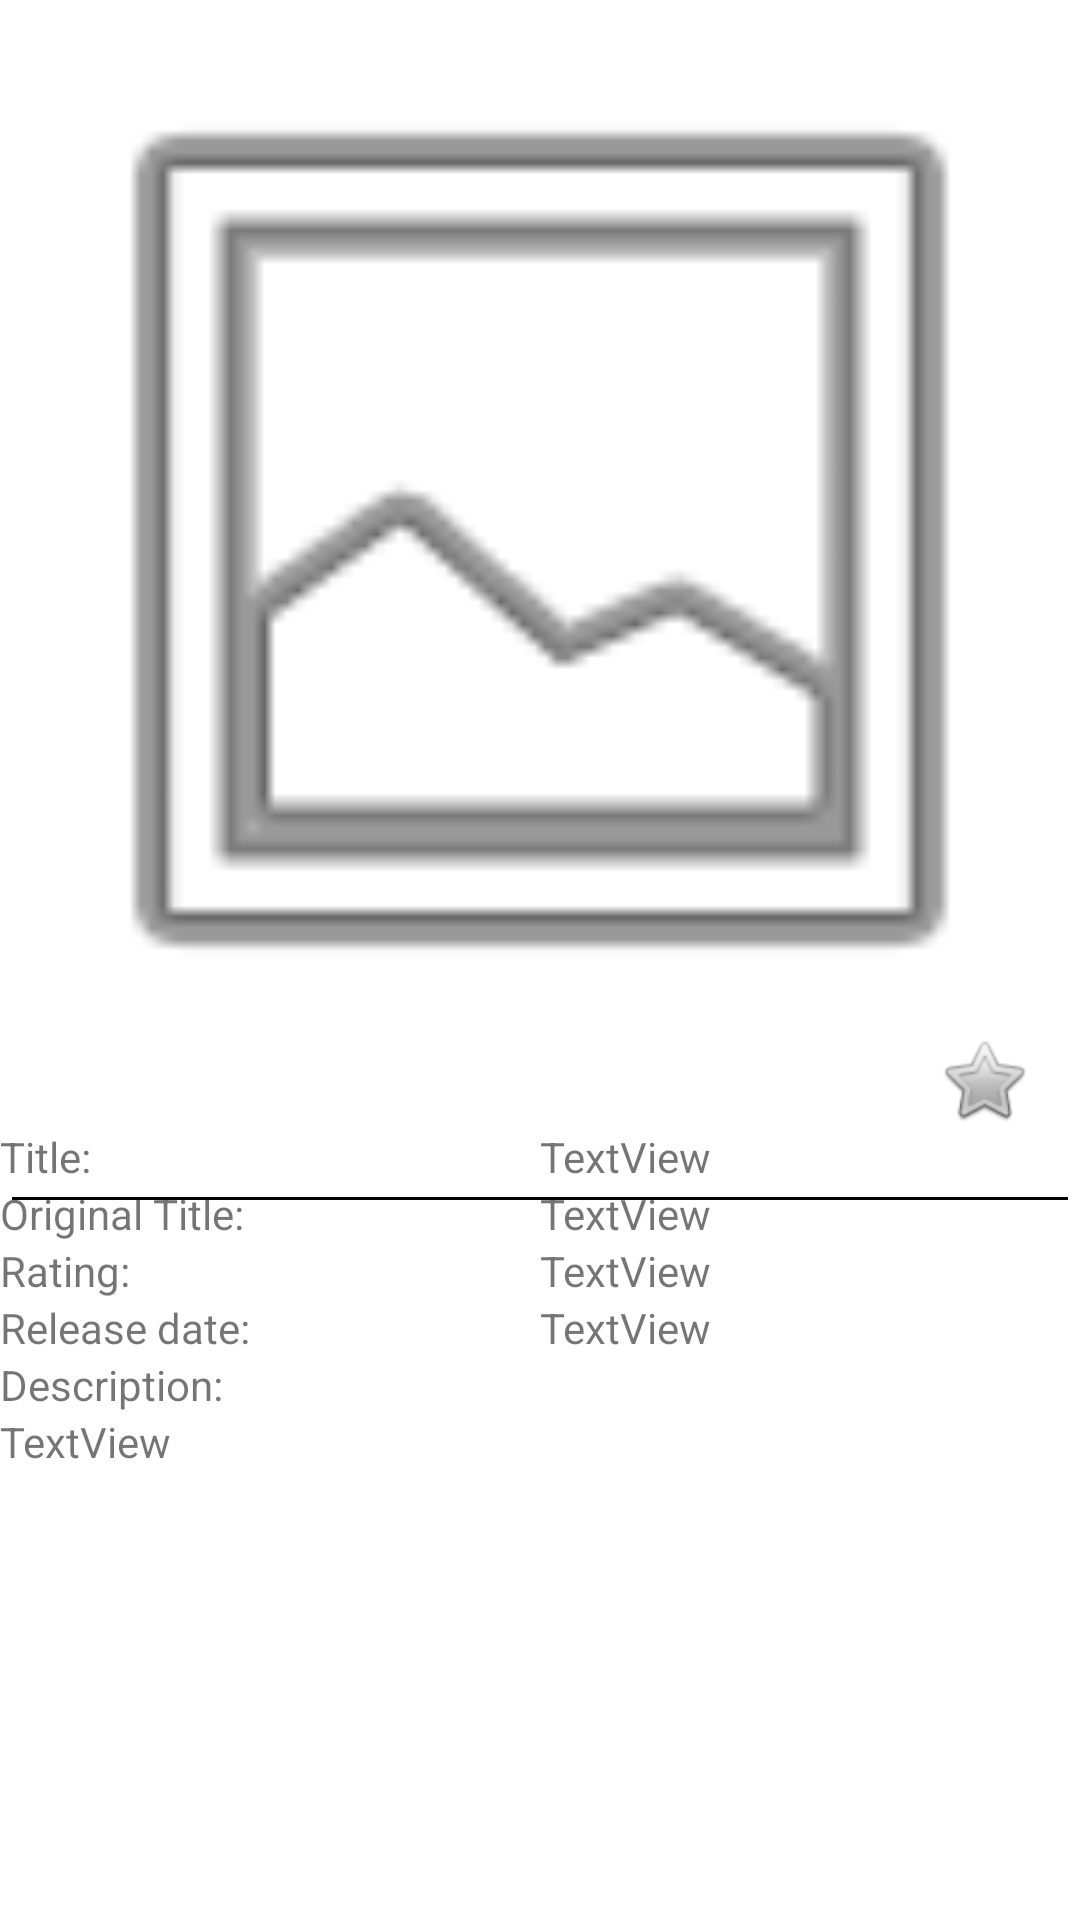

Where icons sit on this 1080x1920 app screen, as {"left": x1, "top": y1, "right": x2, "bottom": y2}:
star off: {"left": 945, "top": 1042, "right": 1025, "bottom": 1120}
